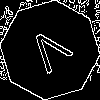V: (25, 25, 80, 82)
